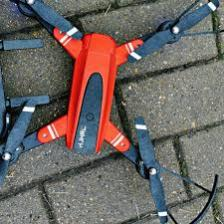drone: (0, 0, 210, 208)
